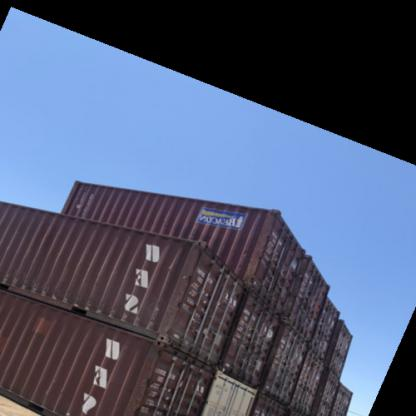Damage: (131, 355, 155, 406)
